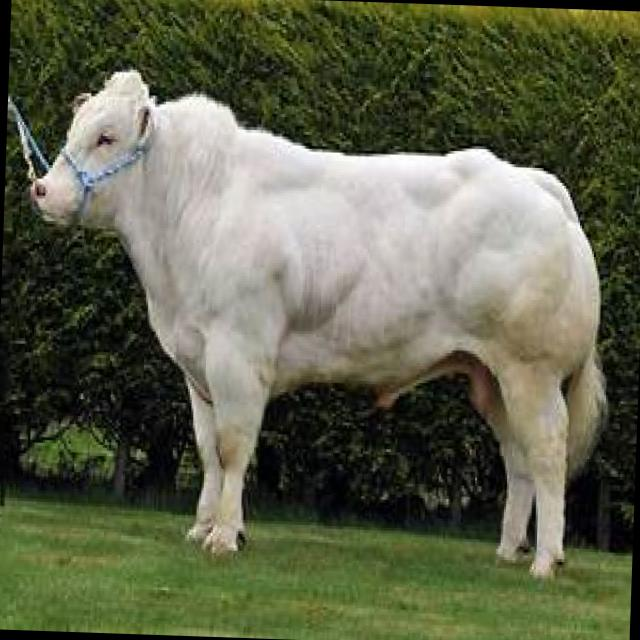animal: (17, 63, 621, 583)
